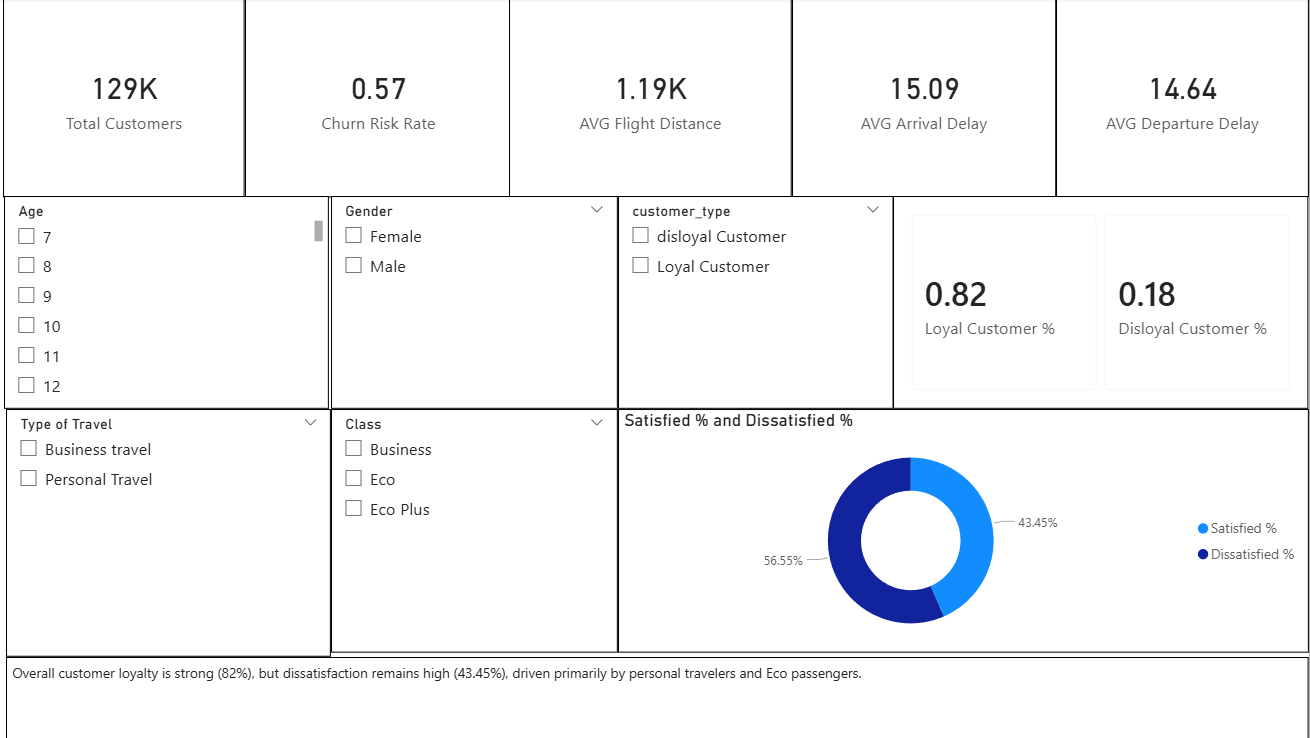

Layout of this report page (visuals, bound fields, positions):
{"tool":"powerbi","page":{"name":"Executive Overview","canvas":[1280,720],"ordinal":0},"visuals":[{"type":"card","fields":{"Values":["flight_customer.Total Customers"]},"box":[9.7,0,235.4,193.6],"z":0},{"type":"donutChart","fields":{"Y":["flight_customer.Satisfied %","flight_customer.Dissatisfied %"]},"box":[607.5,400.1,672.5,236.7],"z":1000},{"type":"card","fields":{"Values":["flight_customer.Churn Risk Rate"]},"box":[245.1,0,259.7,193.6],"z":2000},{"type":"card","fields":{"Values":["flight_customer.AVG Flight Distance"]},"box":[501.9,0,275.3,193.6],"z":3000},{"type":"card","fields":{"Values":["flight_customer.AVG Arrival Delay"]},"box":[777.1,0,256.8,193.6],"z":4000},{"type":"card","fields":{"Values":["flight_customer.AVG Departure Delay"]},"box":[1033.9,0,246.1,193.6],"z":5000},{"type":"slicer","fields":{"Values":["flight_customer.age"]},"box":[10.5,192.7,316.3,207.4],"z":6000},{"type":"slicer","fields":{"Values":["flight_customer.type_of_travel"]},"box":[12.6,400.1,316.3,240.9],"z":7000},{"type":"slicer","fields":{"Values":["flight_customer.gender"]},"box":[328.9,192.7,278.6,207.4],"z":8000},{"type":"slicer","fields":{"Values":["flight_customer.class"]},"box":[328.9,400.1,278.6,236.7],"z":9000},{"type":"slicer","fields":{"Values":["flight_customer.customer_type"]},"box":[607.5,192.7,268.2,207.4],"z":10001},{"type":"cardVisual","fields":{"Data":["flight_customer.Loyal Customer %","flight_customer.Disloyal Customer %"]},"box":[875.7,192.7,404.3,207.4],"z":10002},{"type":"textbox","box":[12.6,641,1267.4,79.6],"z":10003}]}

Visuals, with their boxes in screenshot pixels (x1, y1, x2, y2), scaled from the page's 1280x720 canvas onto the 1310x738 screenshot:
card - flight_customer.Total Customers: locate(10, 0, 251, 198)
donutChart - flight_customer.Satisfied % x flight_customer.Dissatisfied %: locate(622, 410, 1309, 653)
card - flight_customer.Churn Risk Rate: locate(251, 0, 517, 198)
card - flight_customer.AVG Flight Distance: locate(514, 0, 795, 198)
card - flight_customer.AVG Arrival Delay: locate(795, 0, 1058, 198)
card - flight_customer.AVG Departure Delay: locate(1058, 0, 1309, 198)
slicer - flight_customer.age: locate(11, 198, 334, 410)
slicer - flight_customer.type_of_travel: locate(13, 410, 337, 657)
slicer - flight_customer.gender: locate(337, 198, 622, 410)
slicer - flight_customer.class: locate(337, 410, 622, 653)
slicer - flight_customer.customer_type: locate(622, 198, 896, 410)
cardVisual - flight_customer.Loyal Customer % x flight_customer.Disloyal Customer %: locate(896, 198, 1309, 410)
textbox: locate(13, 657, 1309, 737)
